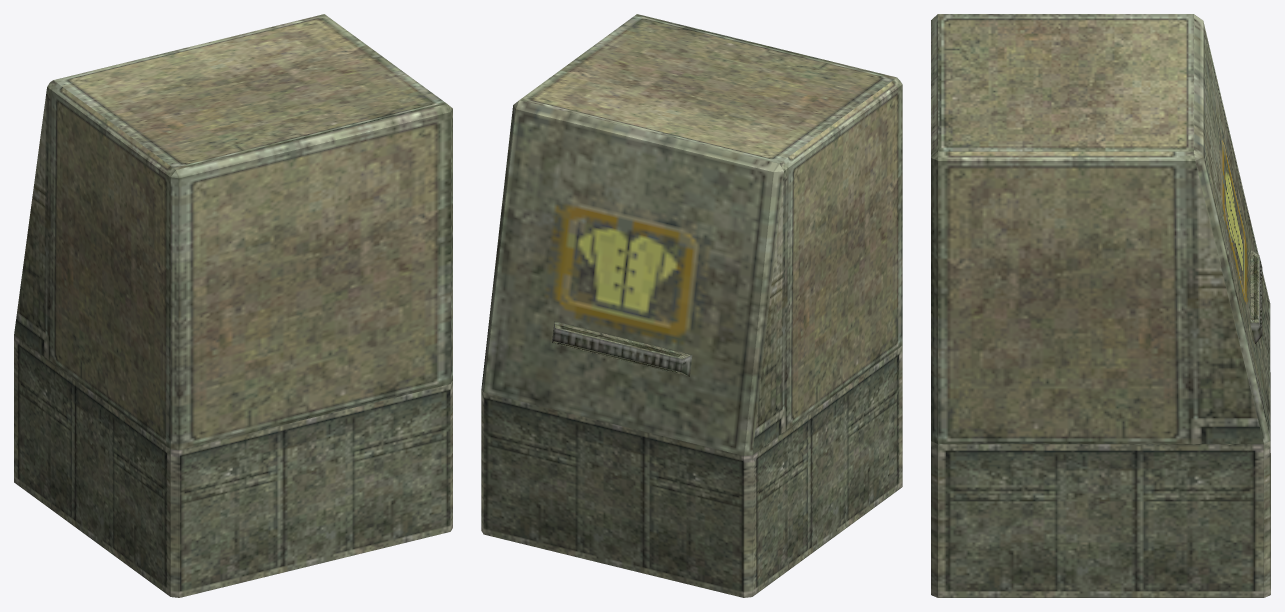
Rendered from con_man_clothing_lg_l0.fbx.
The picture shows the model from 3 angles, left to right: view 1: azimuth 30°, elevation 25°; view 2: azimuth 150°, elevation 25°; view 3: azimuth 270°, elevation 25°; orthographic projection. The views are drawn at different scales.
Parts seen in each view (by area): view 1: mesh_node; view 2: mesh_node; view 3: mesh_node.
Boxes of the visible parts, x1,y1,x2,y2 form: mesh_node: (14,14,452,597); mesh_node: (481,14,902,597); mesh_node: (931,14,1270,597).
Bounding box in the file's own units: 1.08 × 1.56 × 1.08.
Materials: 1 (1 with a texture image).
